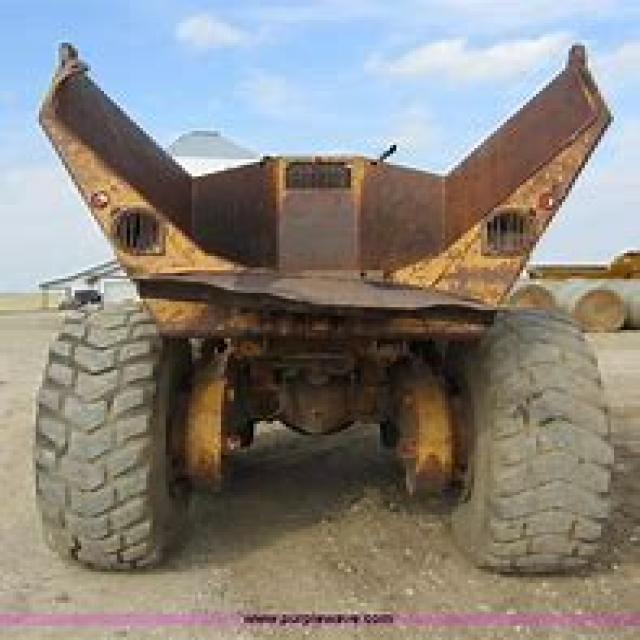dump_truck: (13, 22, 627, 572)
